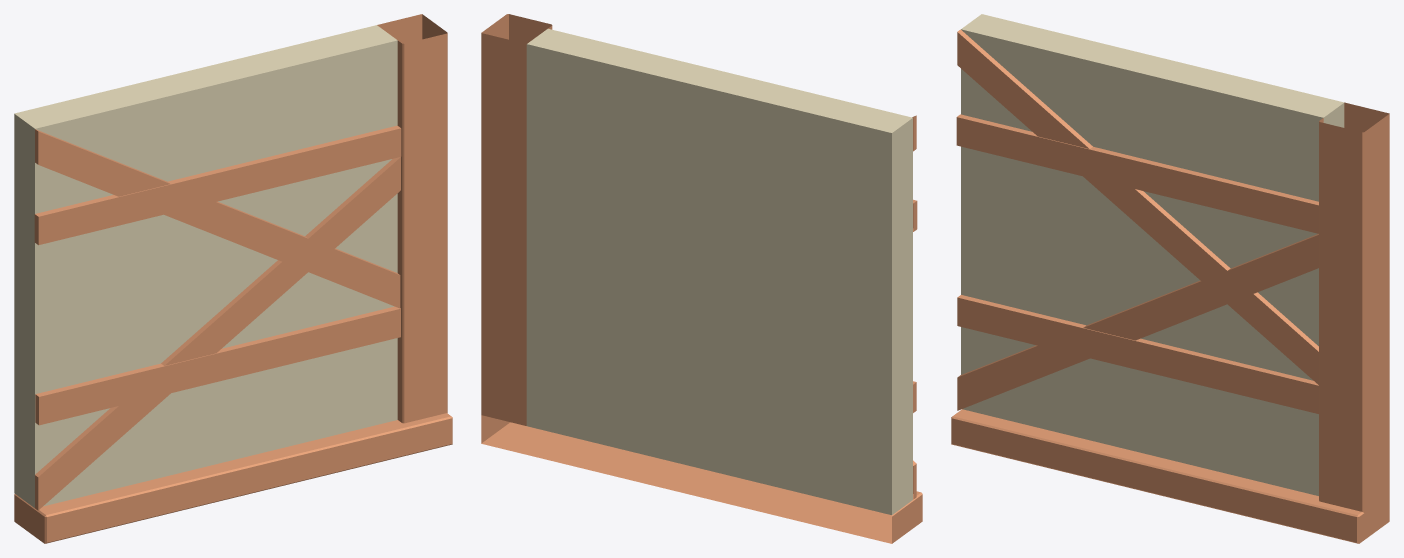
Rendered from Wall6_low.fbx.
3 views of the same model, side by side, from view 1: azimuth 30°, elevation 25°; view 2: azimuth 150°, elevation 25°; view 3: azimuth 330°, elevation 25° (orthographic).
Parts seen in each view (by area): view 1: Wall6_low, Wall6_woodframe1_low, Wall6_woodplank1_low; view 2: Wall6_low, Wall6_woodplank1_low, Wall6_woodframe1_low; view 3: Wall6_low, Wall6_woodframe1_low, Wall6_woodplank1_low.
Boxes of the visible parts, x1,y1,x2,y2 form: Wall6_low: (14,25,397,507); Wall6_woodframe1_low: (34,125,401,510); Wall6_woodplank1_low: (14,14,452,543); Wall6_low: (526,28,912,515); Wall6_woodplank1_low: (481,14,922,543); Wall6_woodframe1_low: (912,115,917,499); Wall6_low: (961,14,1344,495); Wall6_woodframe1_low: (956,29,1318,413); Wall6_woodplank1_low: (951,102,1389,543).
Bounding box in the file's own units: 450 × 430 × 60.
